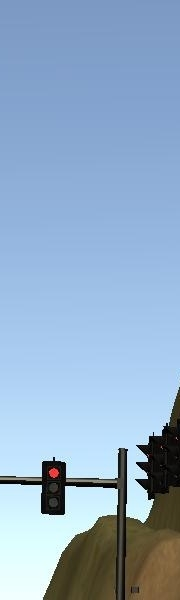Red: (40, 460, 66, 514)
